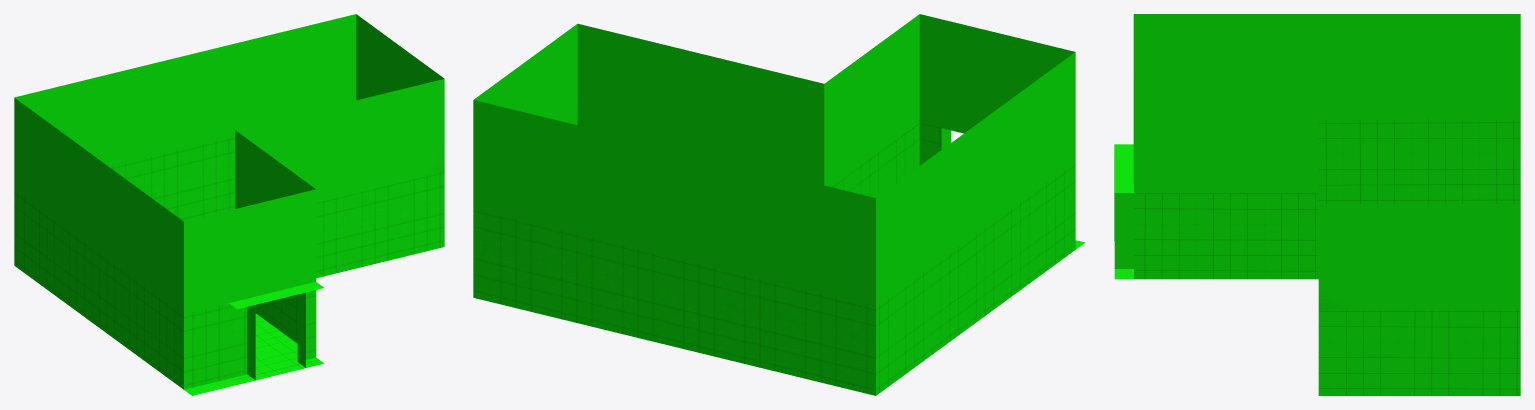
File: 세탁실.fbx
3 renders of one model, left to right at view 1: azimuth 30°, elevation 25°; view 2: azimuth 150°, elevation 25°; view 3: azimuth 270°, elevation 25°, orthographic. The views are drawn at different scales.
Visible parts, largest first — view 1: 세탁실 벽, 세탁실 바닥; view 2: 세탁실 벽; view 3: 세탁실 벽.
Part boxes in pixels (x1=…): 세탁실 벽: x1=14, y1=14, x2=444, y2=395; 세탁실 바닥: x1=229, y1=313, x2=320, y2=384; 세탁실 벽: x1=473, y1=14, x2=1085, y2=395; 세탁실 벽: x1=1114, y1=14, x2=1520, y2=395.
Size of the model in its own units: 421 by 198 by 380.
